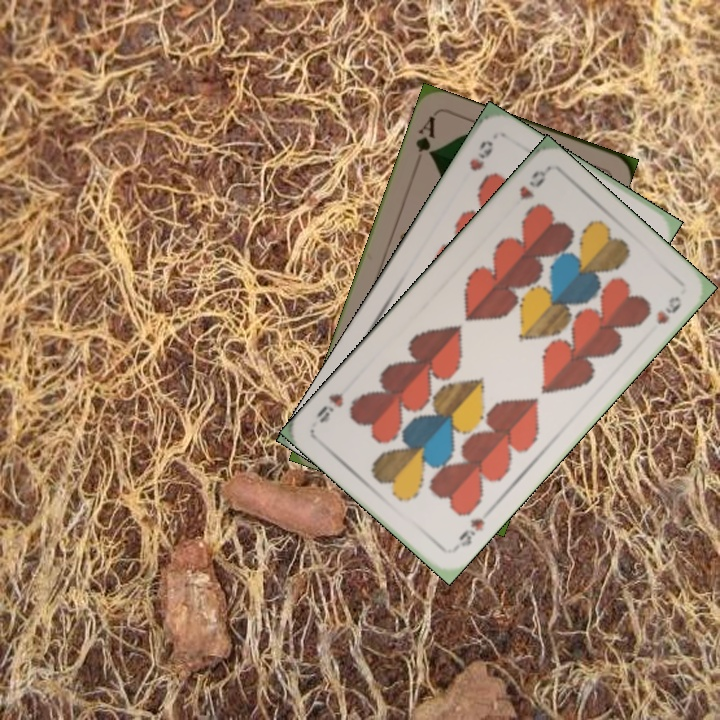GA: (411, 112, 438, 161)
H9: (515, 166, 550, 204), (454, 514, 488, 550), (465, 136, 497, 174)
